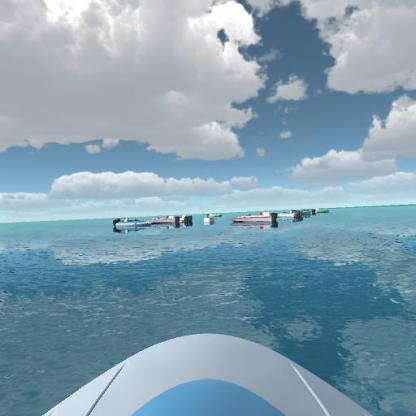usv0: (314, 204, 332, 218), (206, 209, 224, 219)
usv1: (110, 214, 150, 233), (271, 204, 303, 222), (295, 206, 317, 218)
usv3: (233, 210, 280, 228), (146, 209, 184, 227), (172, 210, 196, 226)
